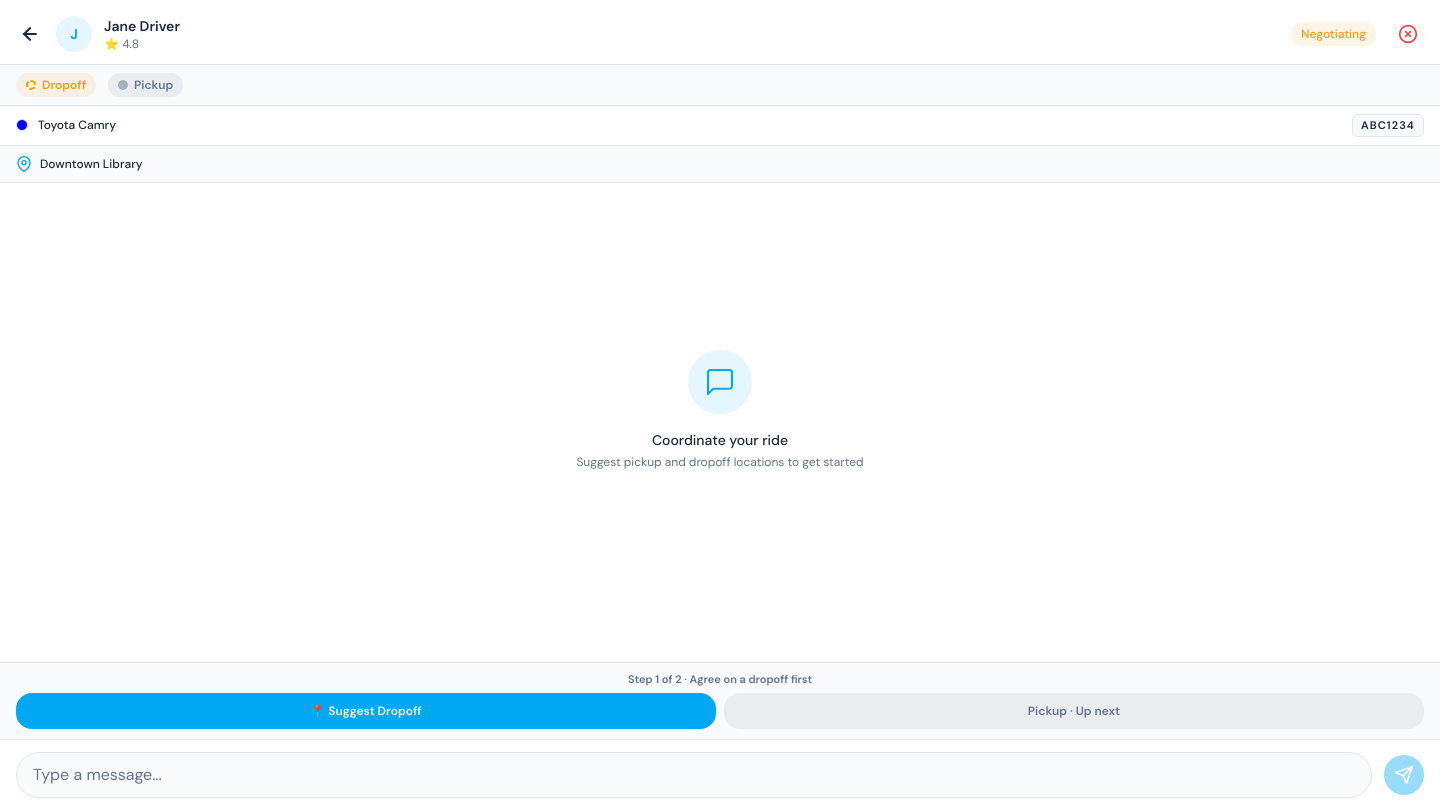
Test: MessagingWindow › marks an optimistic bubble as failed + shows Retry when /messages POST 500s
(page scrolled)
Type "Wont land" into the field with test id "chat-input" at (694, 775), box [16,752,1372,798]
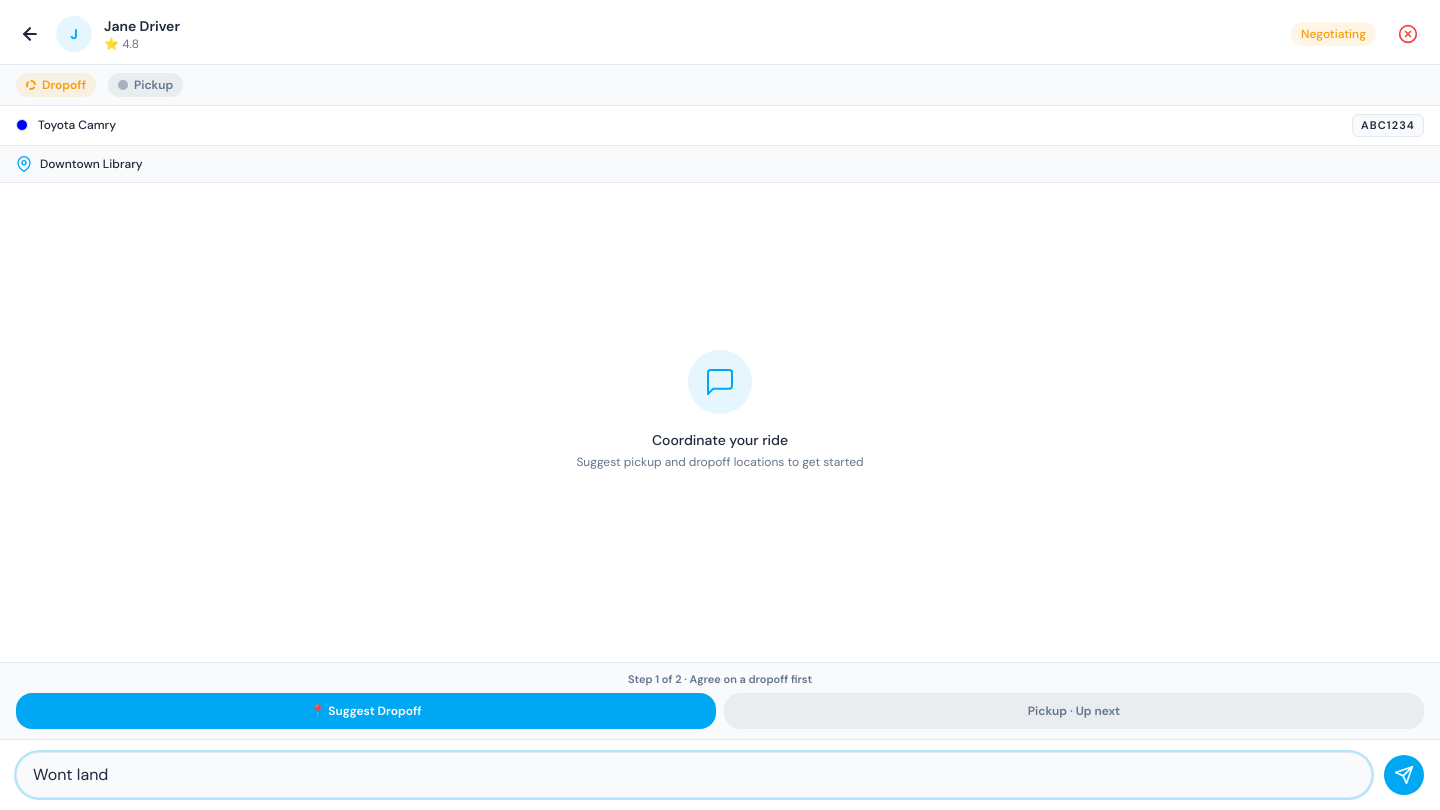
Click the button with test id "send-button" at (1404, 775), box [1384,755,1424,795]
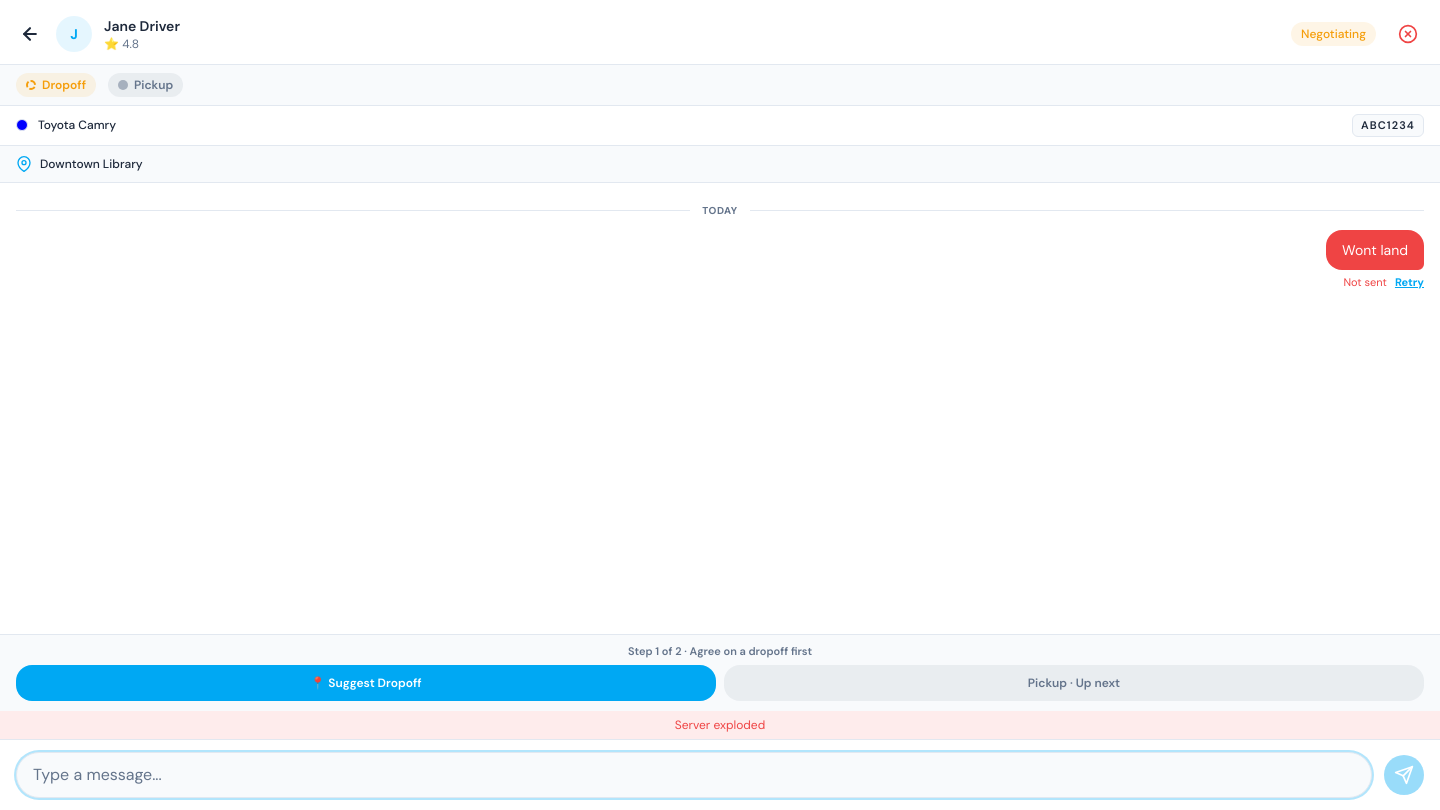
Expected: the button "Retry" is shown, [1395,274,1424,290]
Expected: the text "Not sent" is shown, [1343,274,1387,290]
